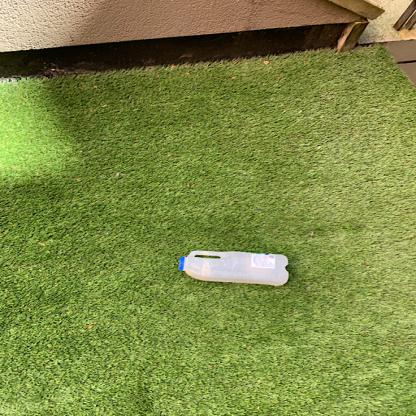trash: (177, 250, 293, 291)
